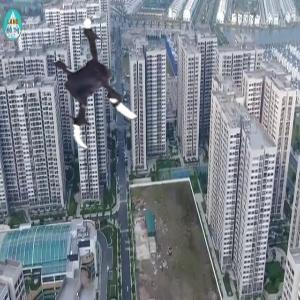drone: (32, 18, 169, 155)
